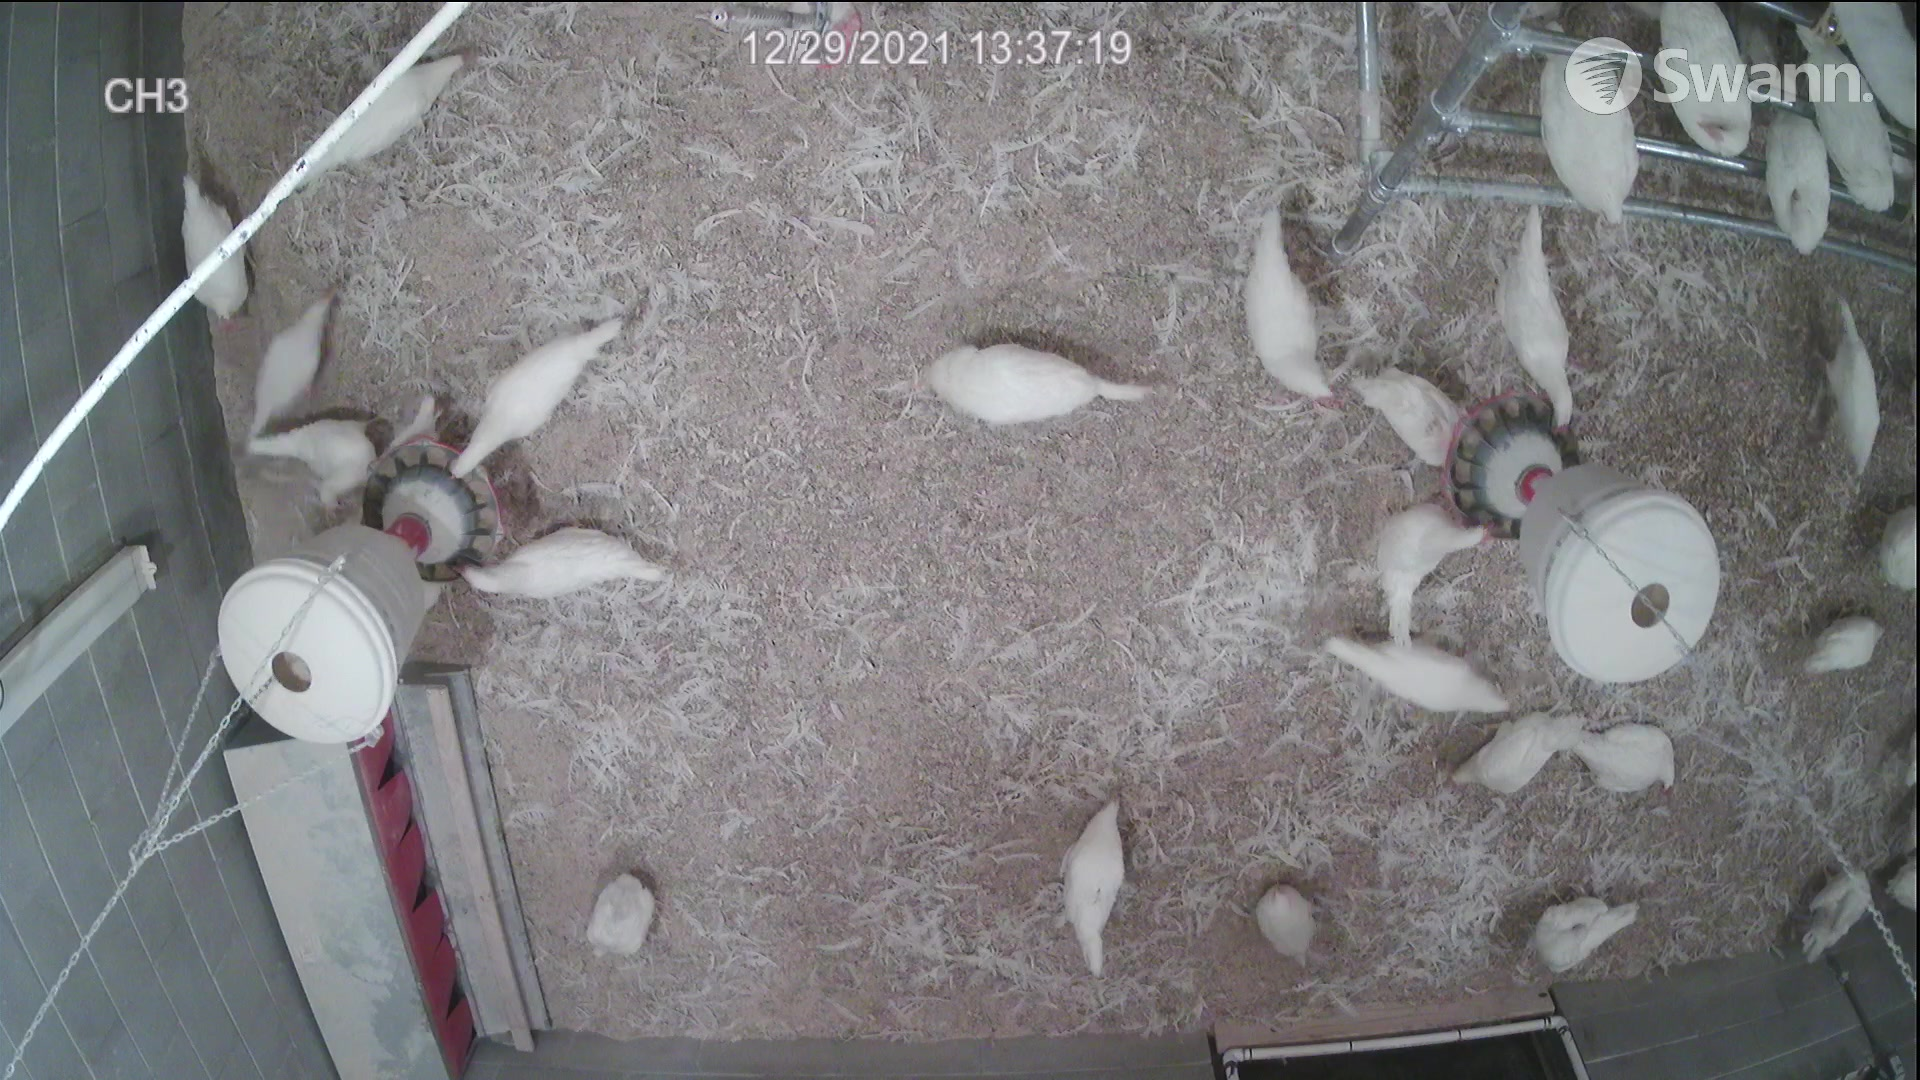Feeding: (430, 320, 632, 501), (1370, 488, 1498, 632), (1513, 199, 1582, 454), (426, 530, 654, 596)
Foraging: (913, 342, 1163, 443), (1039, 786, 1154, 982), (240, 295, 345, 429), (1821, 290, 1888, 488), (575, 862, 695, 963), (1815, 596, 1908, 705)
Perching: (1796, 15, 1887, 215), (1538, 50, 1634, 237), (1754, 128, 1850, 273), (1651, 0, 1741, 145)
